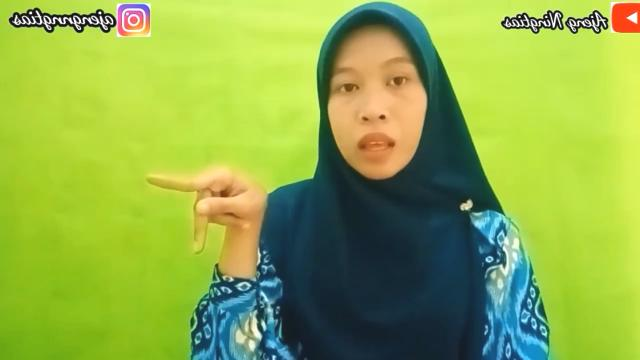P: (142, 165, 270, 258)
